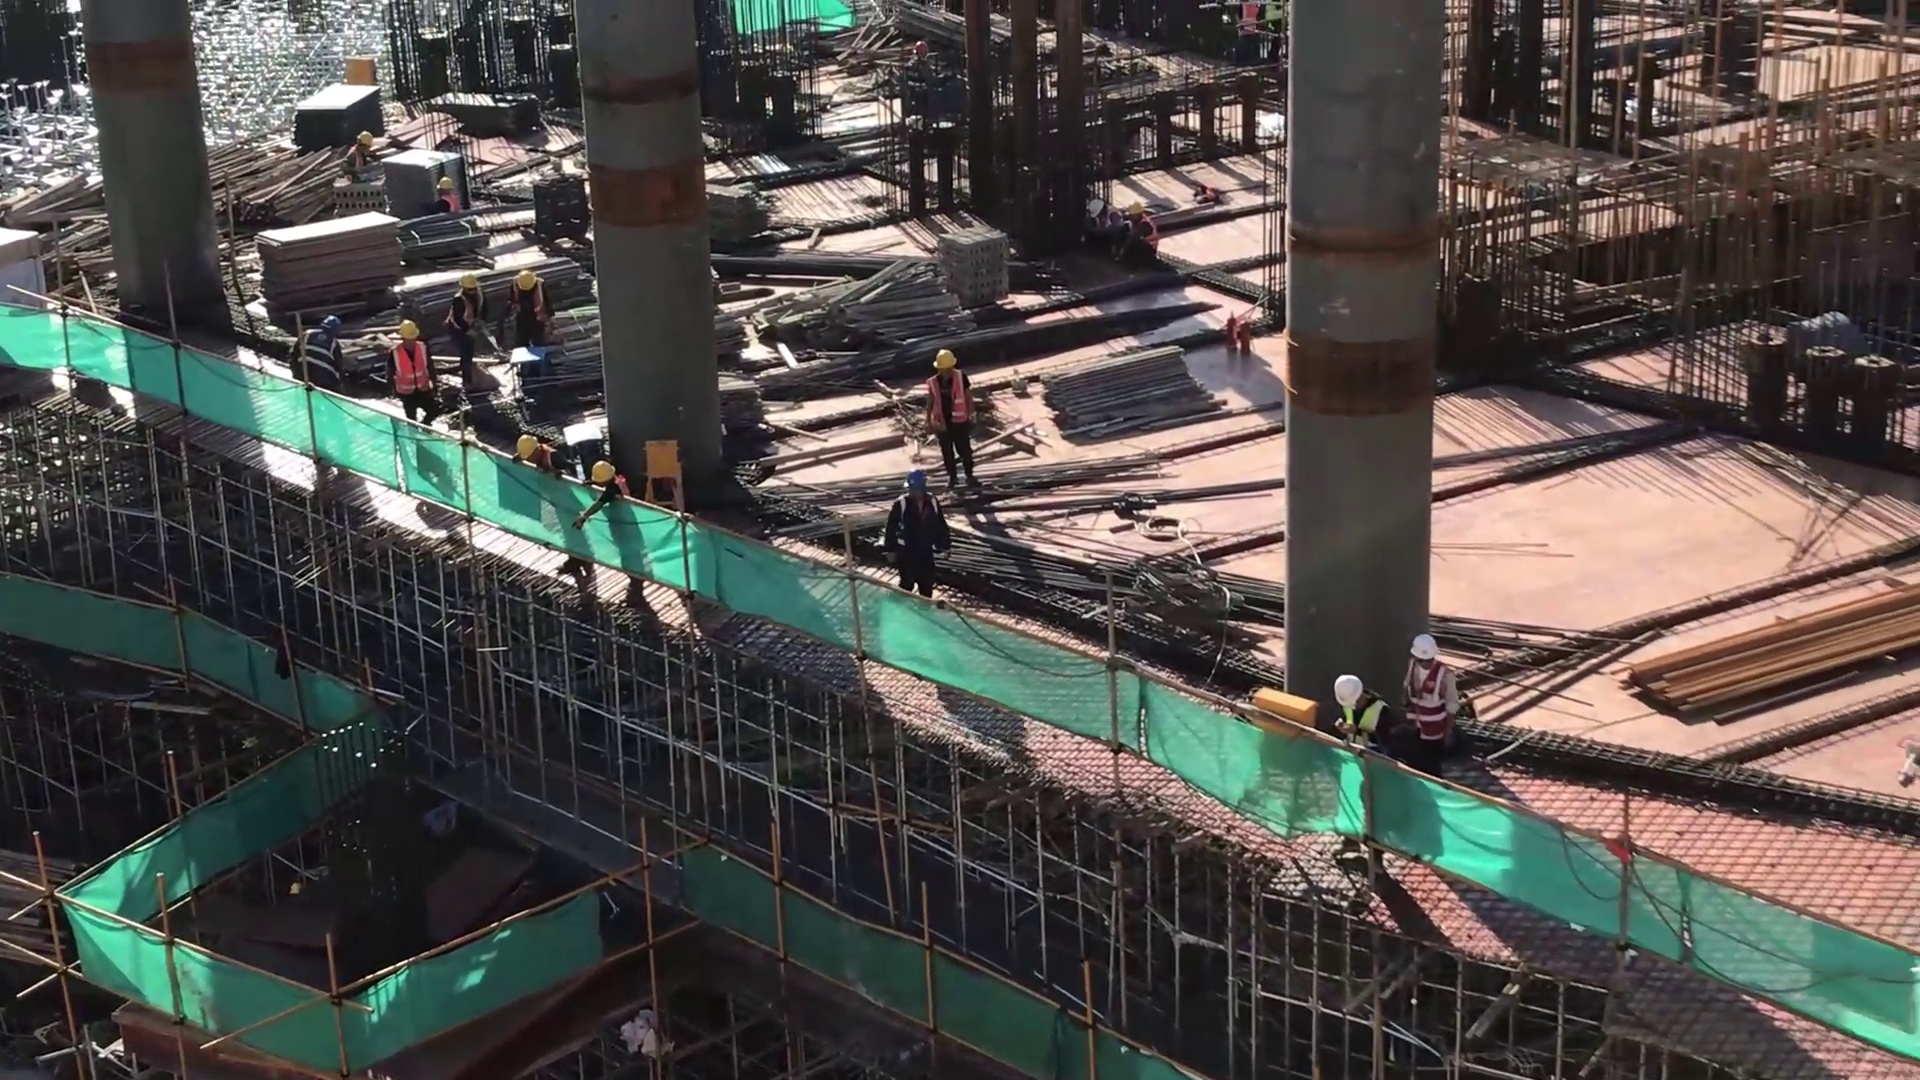helmet: (498, 420, 544, 469), (1327, 661, 1366, 715), (925, 341, 979, 377), (505, 266, 552, 297), (1400, 622, 1438, 658), (388, 316, 429, 346), (446, 268, 482, 289), (436, 169, 458, 196), (589, 457, 615, 477), (352, 130, 375, 149), (324, 311, 339, 334)
person: (512, 419, 646, 591), (1329, 668, 1405, 883), (911, 335, 1001, 484), (1413, 629, 1481, 770), (845, 472, 899, 587), (386, 306, 439, 414), (1094, 191, 1161, 264), (501, 257, 555, 341), (294, 301, 344, 388)
vest: (1402, 664, 1465, 742), (894, 488, 958, 550), (298, 324, 342, 387), (925, 374, 977, 424), (393, 337, 425, 392)
